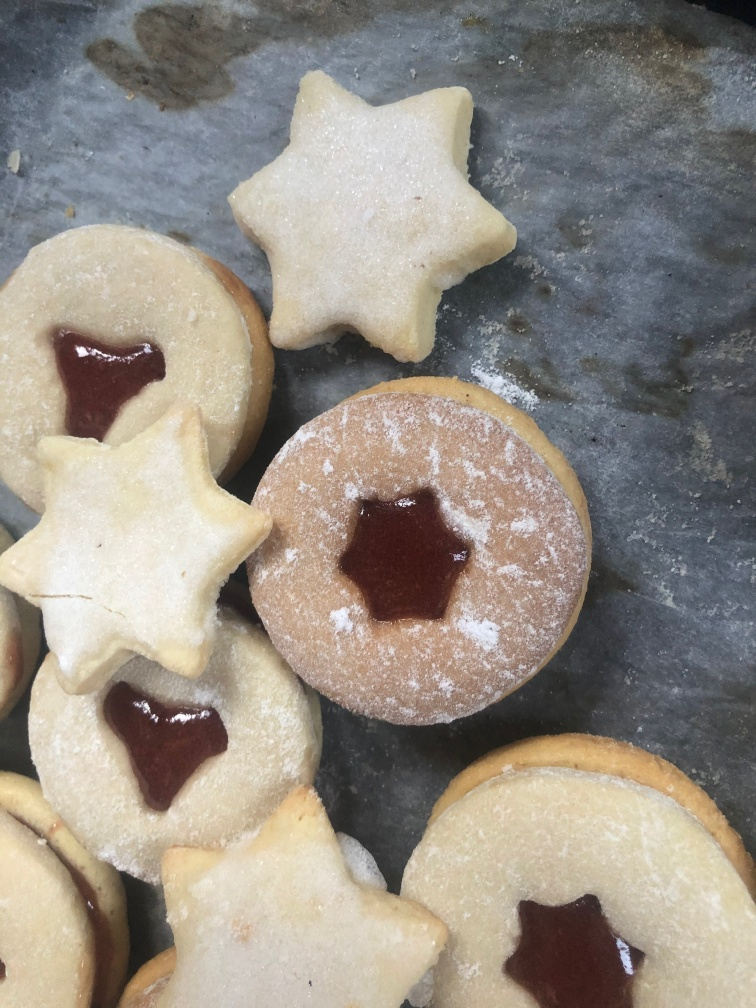christmas shortbread with jam: (249, 378, 594, 724), (411, 738, 754, 1007), (6, 222, 267, 499), (33, 650, 315, 866)
star: (224, 66, 515, 362), (3, 410, 278, 685), (149, 785, 446, 1008)
